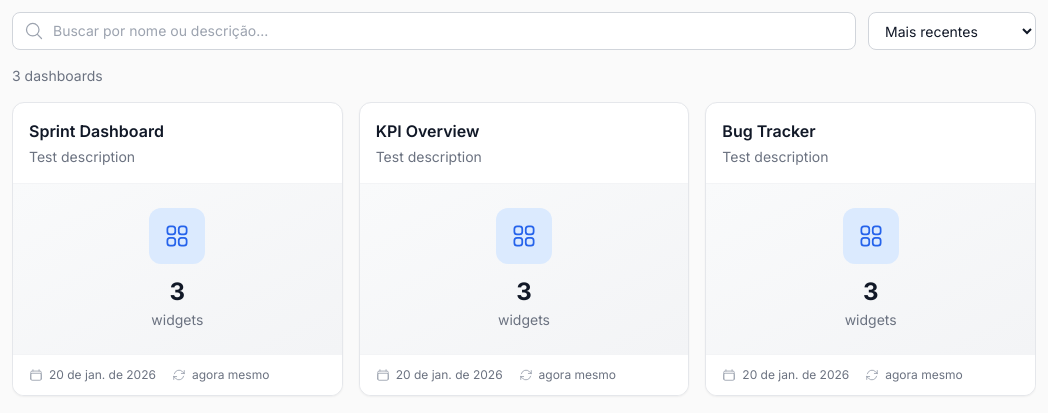
Test: DashboardList › Search › should filter dashboards by name
Type "sprint" into the field with placeholder "Buscar por nome ou descrição..." at (434, 31), box [12,12,856,50]
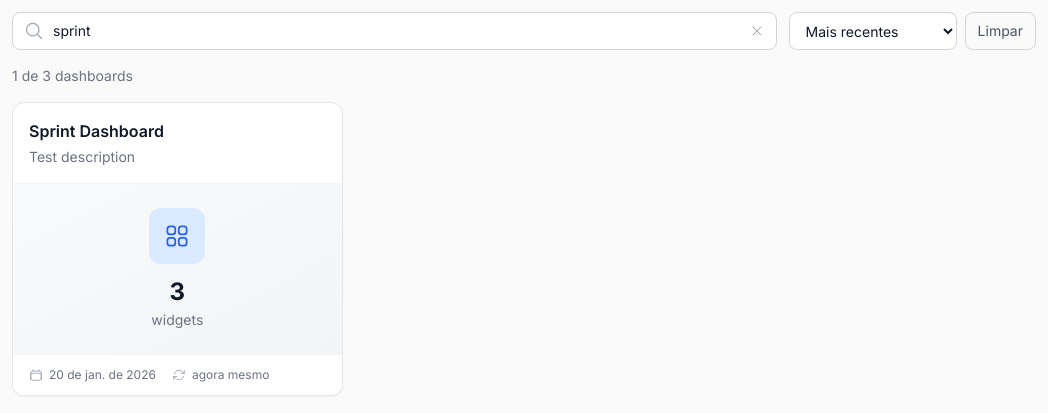
expect the heading "Sprint Dashboard" is shown: met, box [29,121,164,141]
expect the heading "KPI Overview" is gone: met
expect the heading "Bug Tracker" is gone: met
